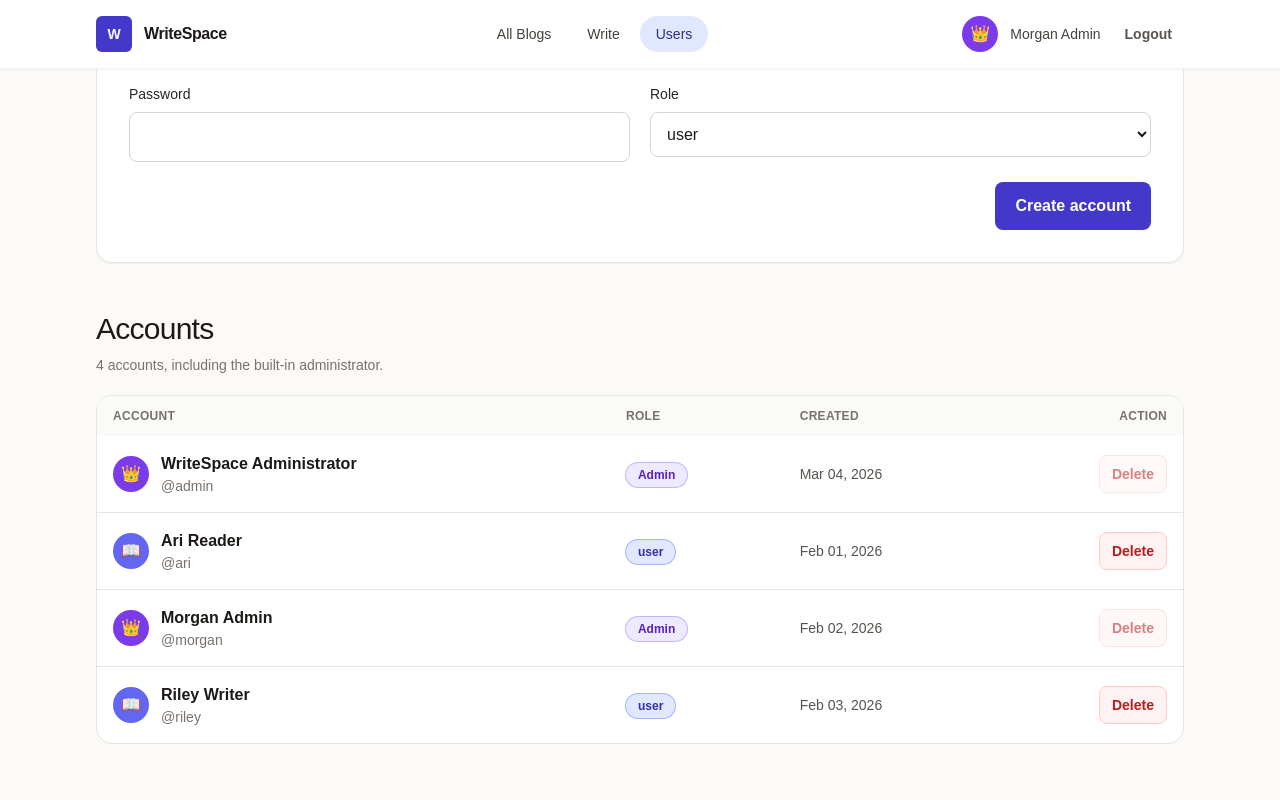
it: administrator pages › disables default-admin and self-delete, while confirmed deletion preserves authored posts
(page scrolled)
Click the button with aria-label "Delete Riley Writer": (1133, 705) [1099,686,1167,724]
(page scrolled)
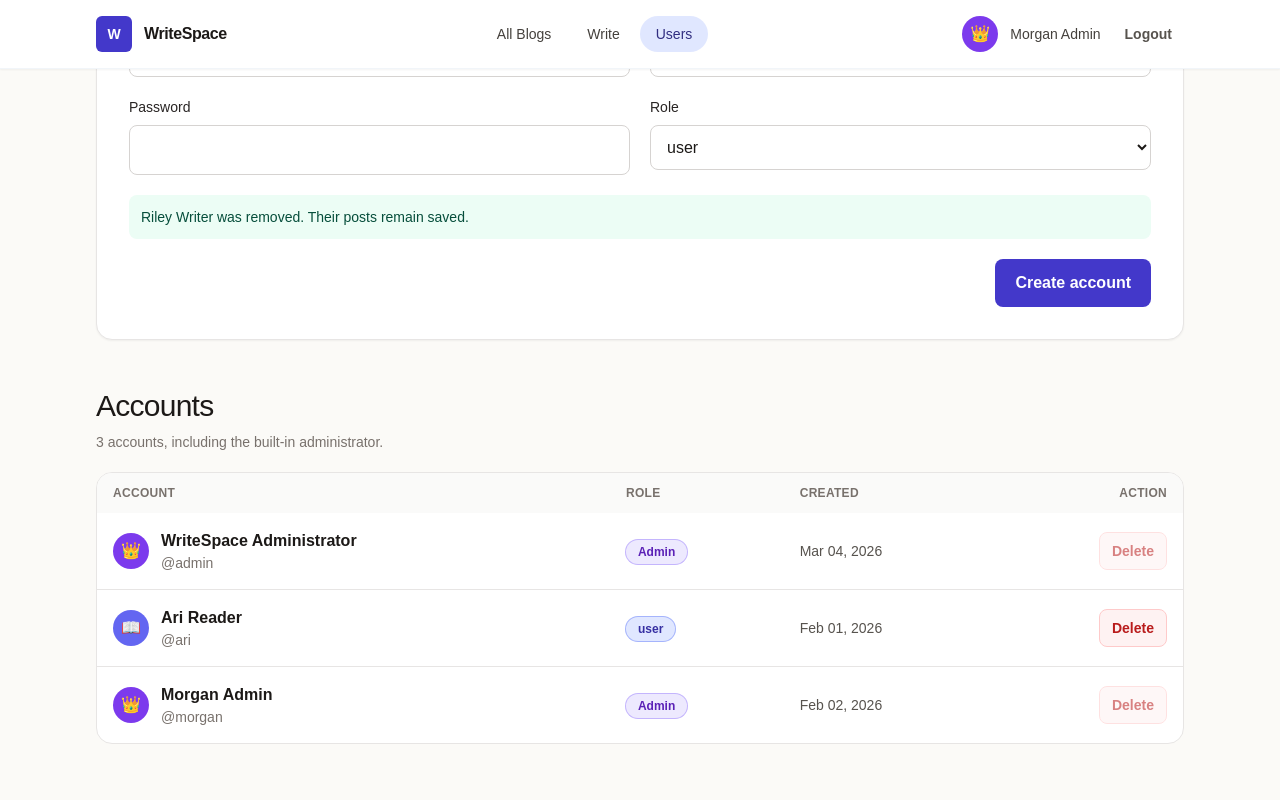
Check: the message shows "Their posts remain saved.", box [141,209,469,225]
